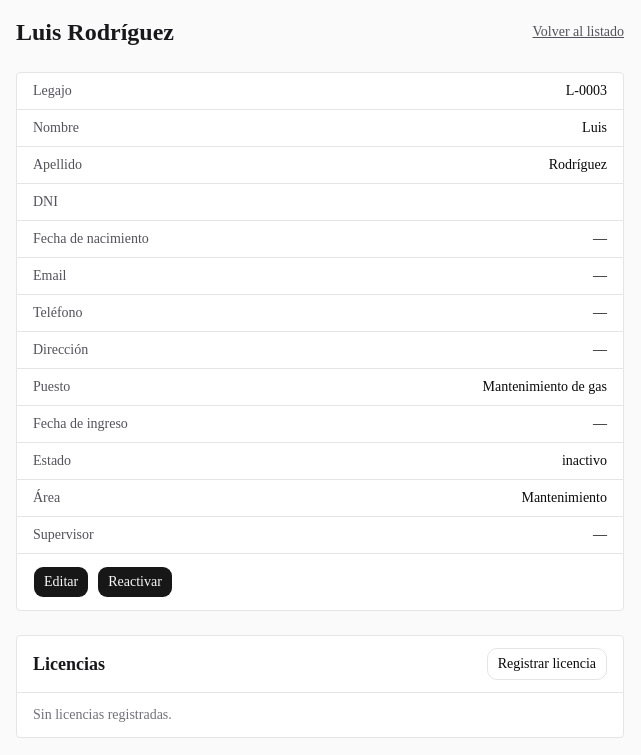
Test: FichaEmpleadoPage › reactiva un Empleado inactivo
The width and height of the screenshot is (641, 755).
Expected: the heading "Luis Rodríguez" is shown, top-left (16, 16), bottom-right (174, 48)
Expected: the text "inactivo" is shown, top-left (562, 451), bottom-right (607, 471)
Click the button "Reactivar": (135, 582) top-left (97, 566), bottom-right (173, 598)
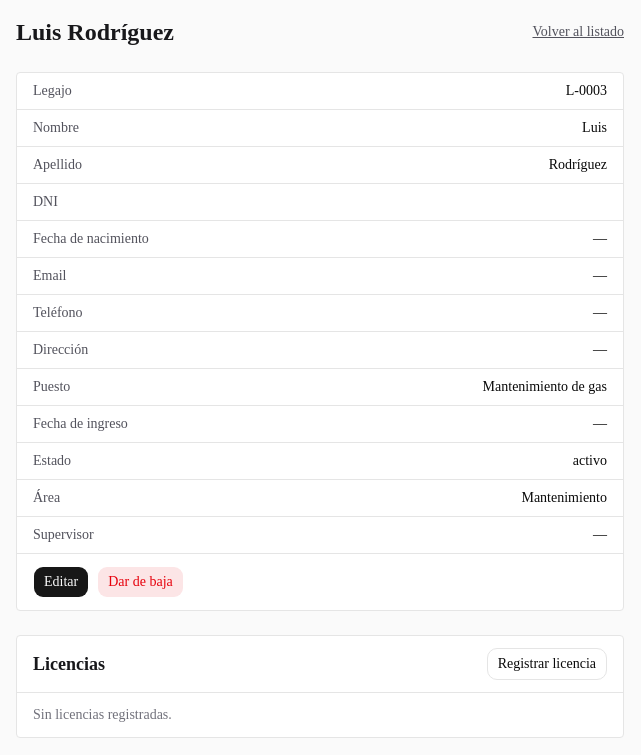
Expected: the text "inactivo" is shown, top-left (573, 453), bottom-right (607, 468)
Result: the button "Dar de baja" is shown at top-left (97, 566), bottom-right (184, 598)
Result: the button "Reactivar" is gone
